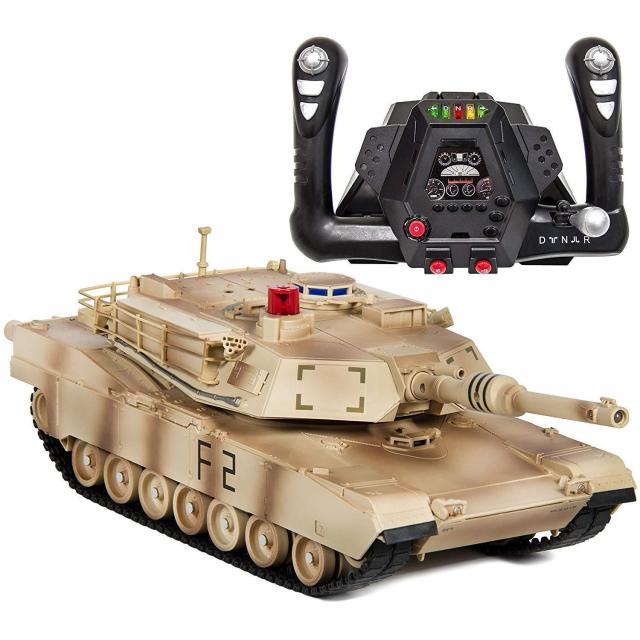Tanks: (7, 246, 564, 598)
